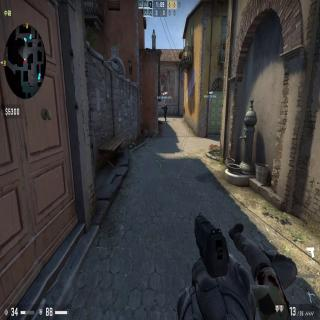CT-Body: (161, 103, 168, 122)
CT-Head: (163, 103, 166, 106)
